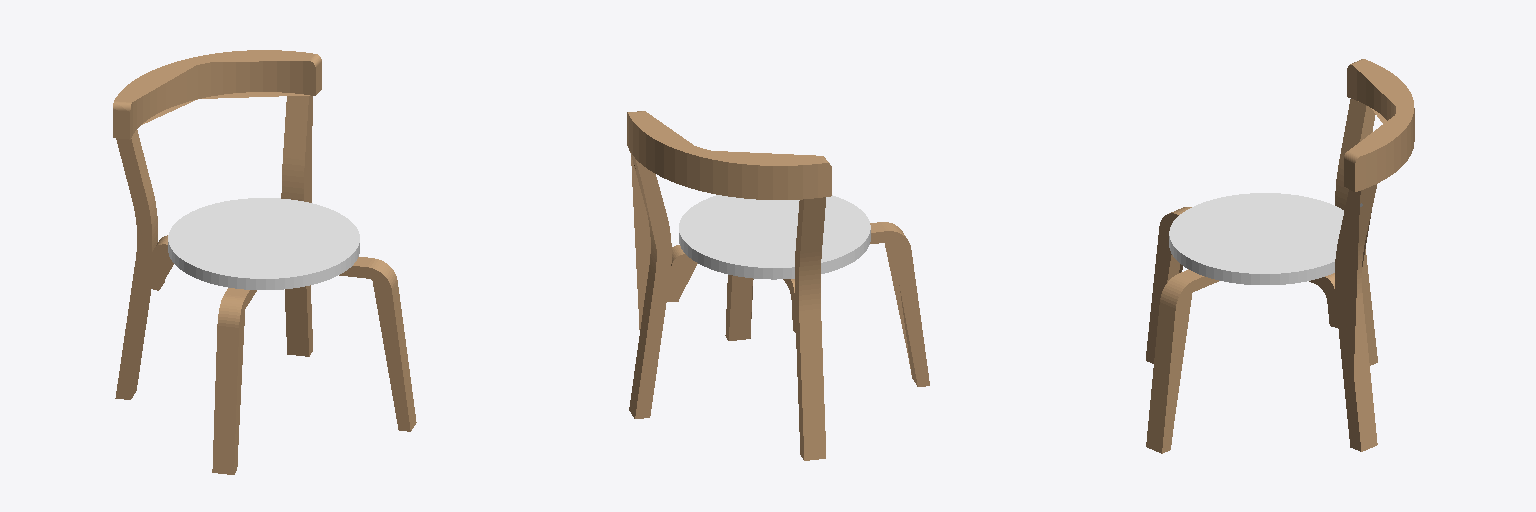
The model's file is chair_table.obj.
3 views of the same model, side by side, from view 1: azimuth 30°, elevation 25°; view 2: azimuth 150°, elevation 25°; view 3: azimuth 270°, elevation 25° (orthographic).
Visible parts, largest first — view 1: Mesh4 seat1 Bedroom_Kid_Chair_MOCKA_Hudson1 Model, Mesh1 Group1 Bedroom_Kid_Chair_MOCKA_Hudson1 Model, Mesh6 Component_2_1 Bedroom_Kid_Chair_MOCKA_Hudson1 Model, Mesh8 Component_1_2 Bedroom_Kid_Chair_MOCKA_Hudson1 Model, Mesh3 Component_1_1 Bedroom_Kid_Chair_MOCKA_Hudson1 Model, Mesh10 Component_2_2 Bedroom_Kid_Chair_MOCKA_Hudson1 Model; view 2: Mesh4 seat1 Bedroom_Kid_Chair_MOCKA_Hudson1 Model, Mesh1 Group1 Bedroom_Kid_Chair_MOCKA_Hudson1 Model, Mesh10 Component_2_2 Bedroom_Kid_Chair_MOCKA_Hudson1 Model, Mesh6 Component_2_1 Bedroom_Kid_Chair_MOCKA_Hudson1 Model, Mesh3 Component_1_1 Bedroom_Kid_Chair_MOCKA_Hudson1 Model, Mesh8 Component_1_2 Bedroom_Kid_Chair_MOCKA_Hudson1 Model; view 3: Mesh4 seat1 Bedroom_Kid_Chair_MOCKA_Hudson1 Model, Mesh10 Component_2_2 Bedroom_Kid_Chair_MOCKA_Hudson1 Model, Mesh1 Group1 Bedroom_Kid_Chair_MOCKA_Hudson1 Model, Mesh8 Component_1_2 Bedroom_Kid_Chair_MOCKA_Hudson1 Model, Mesh3 Component_1_1 Bedroom_Kid_Chair_MOCKA_Hudson1 Model, Mesh6 Component_2_1 Bedroom_Kid_Chair_MOCKA_Hudson1 Model.
Part boxes in pixels (bbox=[...]): Mesh4 seat1 Bedroom_Kid_Chair_MOCKA_Hudson1 Model: bbox=[168, 198, 359, 289]; Mesh1 Group1 Bedroom_Kid_Chair_MOCKA_Hudson1 Model: bbox=[113, 50, 321, 139]; Mesh6 Component_2_1 Bedroom_Kid_Chair_MOCKA_Hudson1 Model: bbox=[115, 130, 157, 399]; Mesh8 Component_1_2 Bedroom_Kid_Chair_MOCKA_Hudson1 Model: bbox=[147, 235, 416, 431]; Mesh3 Component_1_1 Bedroom_Kid_Chair_MOCKA_Hudson1 Model: bbox=[212, 288, 256, 474]; Mesh10 Component_2_2 Bedroom_Kid_Chair_MOCKA_Hudson1 Model: bbox=[281, 95, 312, 356]; Mesh4 seat1 Bedroom_Kid_Chair_MOCKA_Hudson1 Model: bbox=[679, 195, 870, 279]; Mesh1 Group1 Bedroom_Kid_Chair_MOCKA_Hudson1 Model: bbox=[627, 111, 831, 199]; Mesh10 Component_2_2 Bedroom_Kid_Chair_MOCKA_Hudson1 Model: bbox=[629, 152, 671, 418]; Mesh6 Component_2_1 Bedroom_Kid_Chair_MOCKA_Hudson1 Model: bbox=[795, 197, 825, 460]; Mesh3 Component_1_1 Bedroom_Kid_Chair_MOCKA_Hudson1 Model: bbox=[667, 222, 929, 386]; Mesh8 Component_1_2 Bedroom_Kid_Chair_MOCKA_Hudson1 Model: bbox=[725, 275, 795, 340]; Mesh4 seat1 Bedroom_Kid_Chair_MOCKA_Hudson1 Model: bbox=[1169, 193, 1343, 284]; Mesh10 Component_2_2 Bedroom_Kid_Chair_MOCKA_Hudson1 Model: bbox=[1335, 184, 1377, 451]; Mesh1 Group1 Bedroom_Kid_Chair_MOCKA_Hudson1 Model: bbox=[1344, 59, 1414, 191]; Mesh8 Component_1_2 Bedroom_Kid_Chair_MOCKA_Hudson1 Model: bbox=[1146, 269, 1218, 453]; Mesh3 Component_1_1 Bedroom_Kid_Chair_MOCKA_Hudson1 Model: bbox=[1146, 207, 1337, 363]; Mesh6 Component_2_1 Bedroom_Kid_Chair_MOCKA_Hudson1 Model: bbox=[1335, 99, 1377, 365].
Bounding box in the file's own units: 380 × 520 × 427.